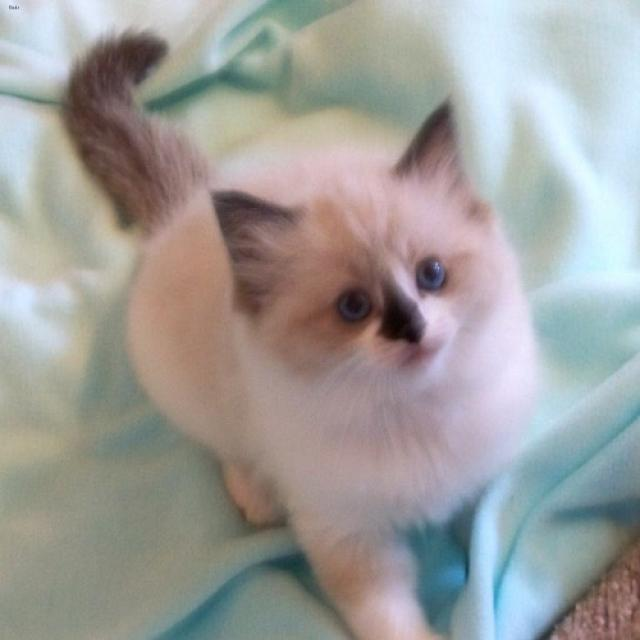cat: (210, 98, 480, 380)
